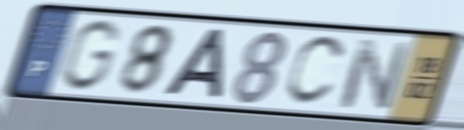8: (232, 28, 290, 107), (118, 22, 177, 96)
A: (158, 27, 229, 103)
C: (281, 34, 350, 110)
G: (56, 17, 124, 94)
N: (335, 36, 413, 114)
